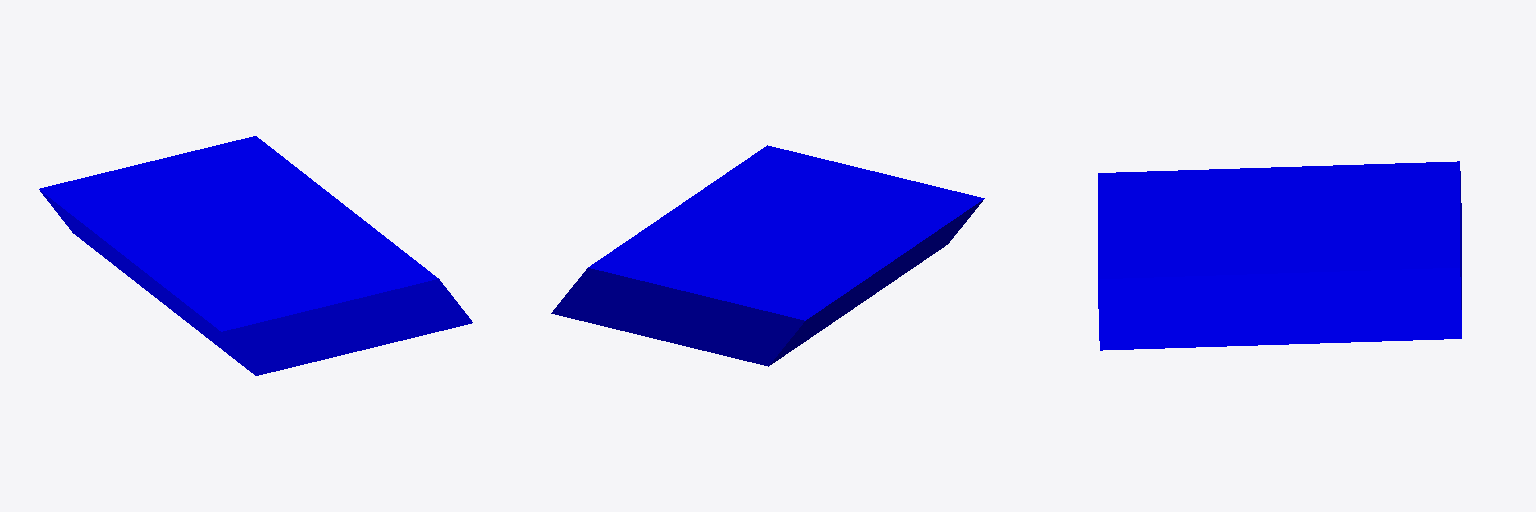
Rendered from planes_1-dynamic - BLK2GO-3630355-Scan 080 13.obj.
3 renders of one model, left to right at view 1: azimuth 30°, elevation 25°; view 2: azimuth 150°, elevation 25°; view 3: azimuth 270°, elevation 25°, orthographic.
Visible parts, largest first — view 1: 1-dynamic_-_BLK2GO-[number redacted]-Scan_080_13_0; view 2: 1-dynamic_-_BLK2GO-[number redacted]-Scan_080_13_0; view 3: 1-dynamic_-_BLK2GO-[number redacted]-Scan_080_13_0.
Boxes of the visible parts, x1,y1,x2,y2 form: 1-dynamic_-_BLK2GO-[number redacted]-Scan_080_13_0: [39, 136, 472, 375]; 1-dynamic_-_BLK2GO-[number redacted]-Scan_080_13_0: [551, 145, 984, 366]; 1-dynamic_-_BLK2GO-[number redacted]-Scan_080_13_0: [1098, 161, 1461, 350].
Size of the model in its own units: 1.18 by 0.2866 by 1.47.